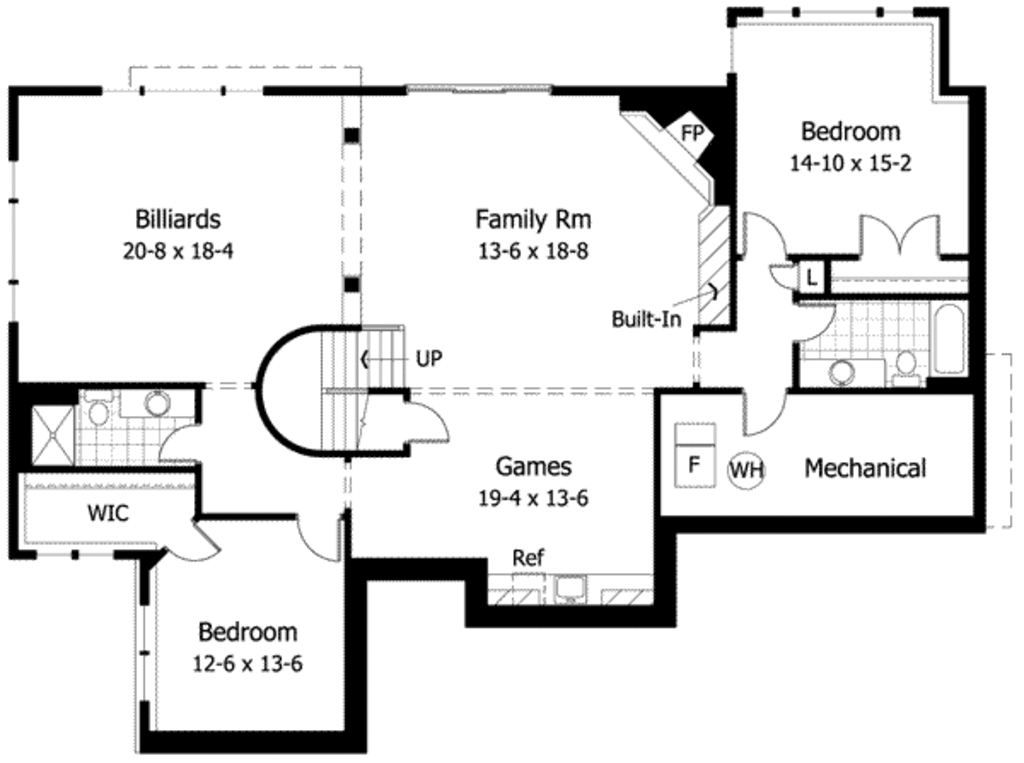door: (862, 206, 949, 256), (291, 509, 343, 576), (153, 516, 218, 565), (403, 398, 456, 453), (741, 201, 790, 259), (159, 420, 213, 469), (738, 390, 790, 436), (797, 298, 840, 343), (761, 259, 797, 297)
large_sink: (76, 389, 120, 439), (890, 343, 925, 389)
small_sink: (806, 361, 876, 388), (129, 390, 182, 416)
stairs: (319, 331, 403, 449)
tub: (931, 302, 966, 383)
window: (404, 80, 553, 99)
